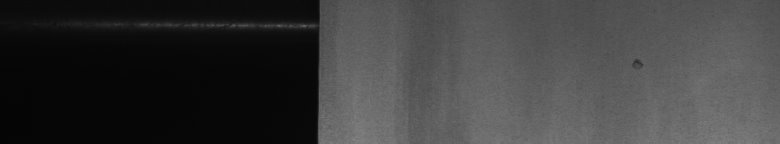fi: (630, 52, 644, 72)
